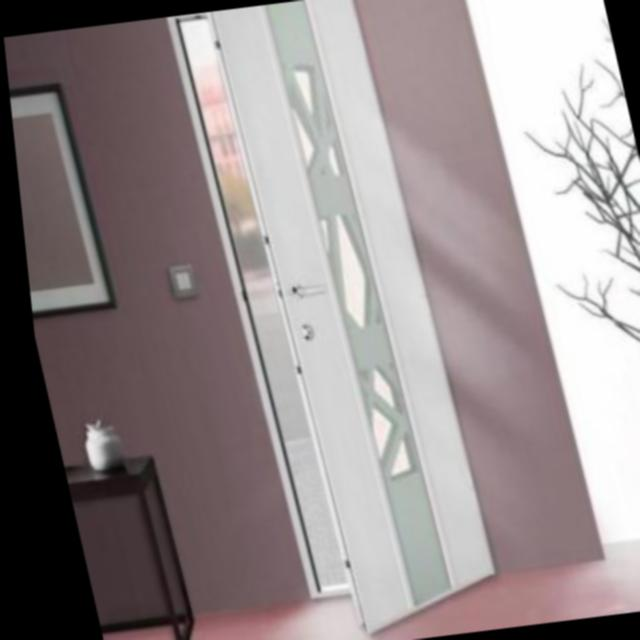door_handle: (279, 278, 330, 310)
